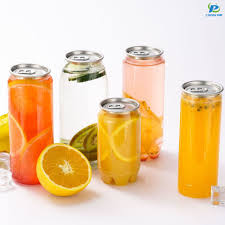can: (6, 45, 220, 200)
